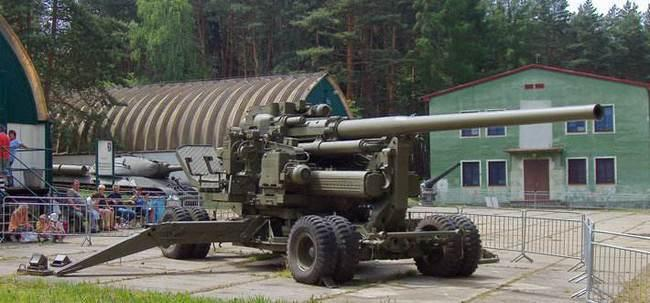MIL_SPG: (57, 103, 602, 284)
